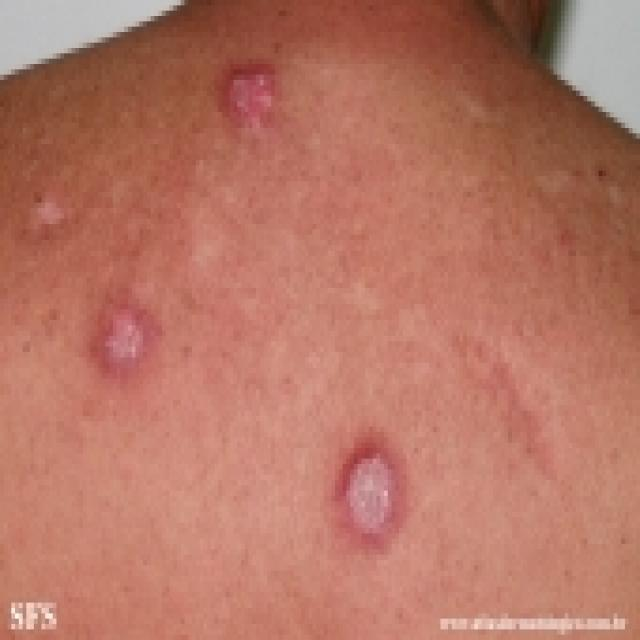lupus: (320, 434, 418, 568), (91, 300, 186, 392), (209, 52, 298, 145), (21, 170, 84, 252)
